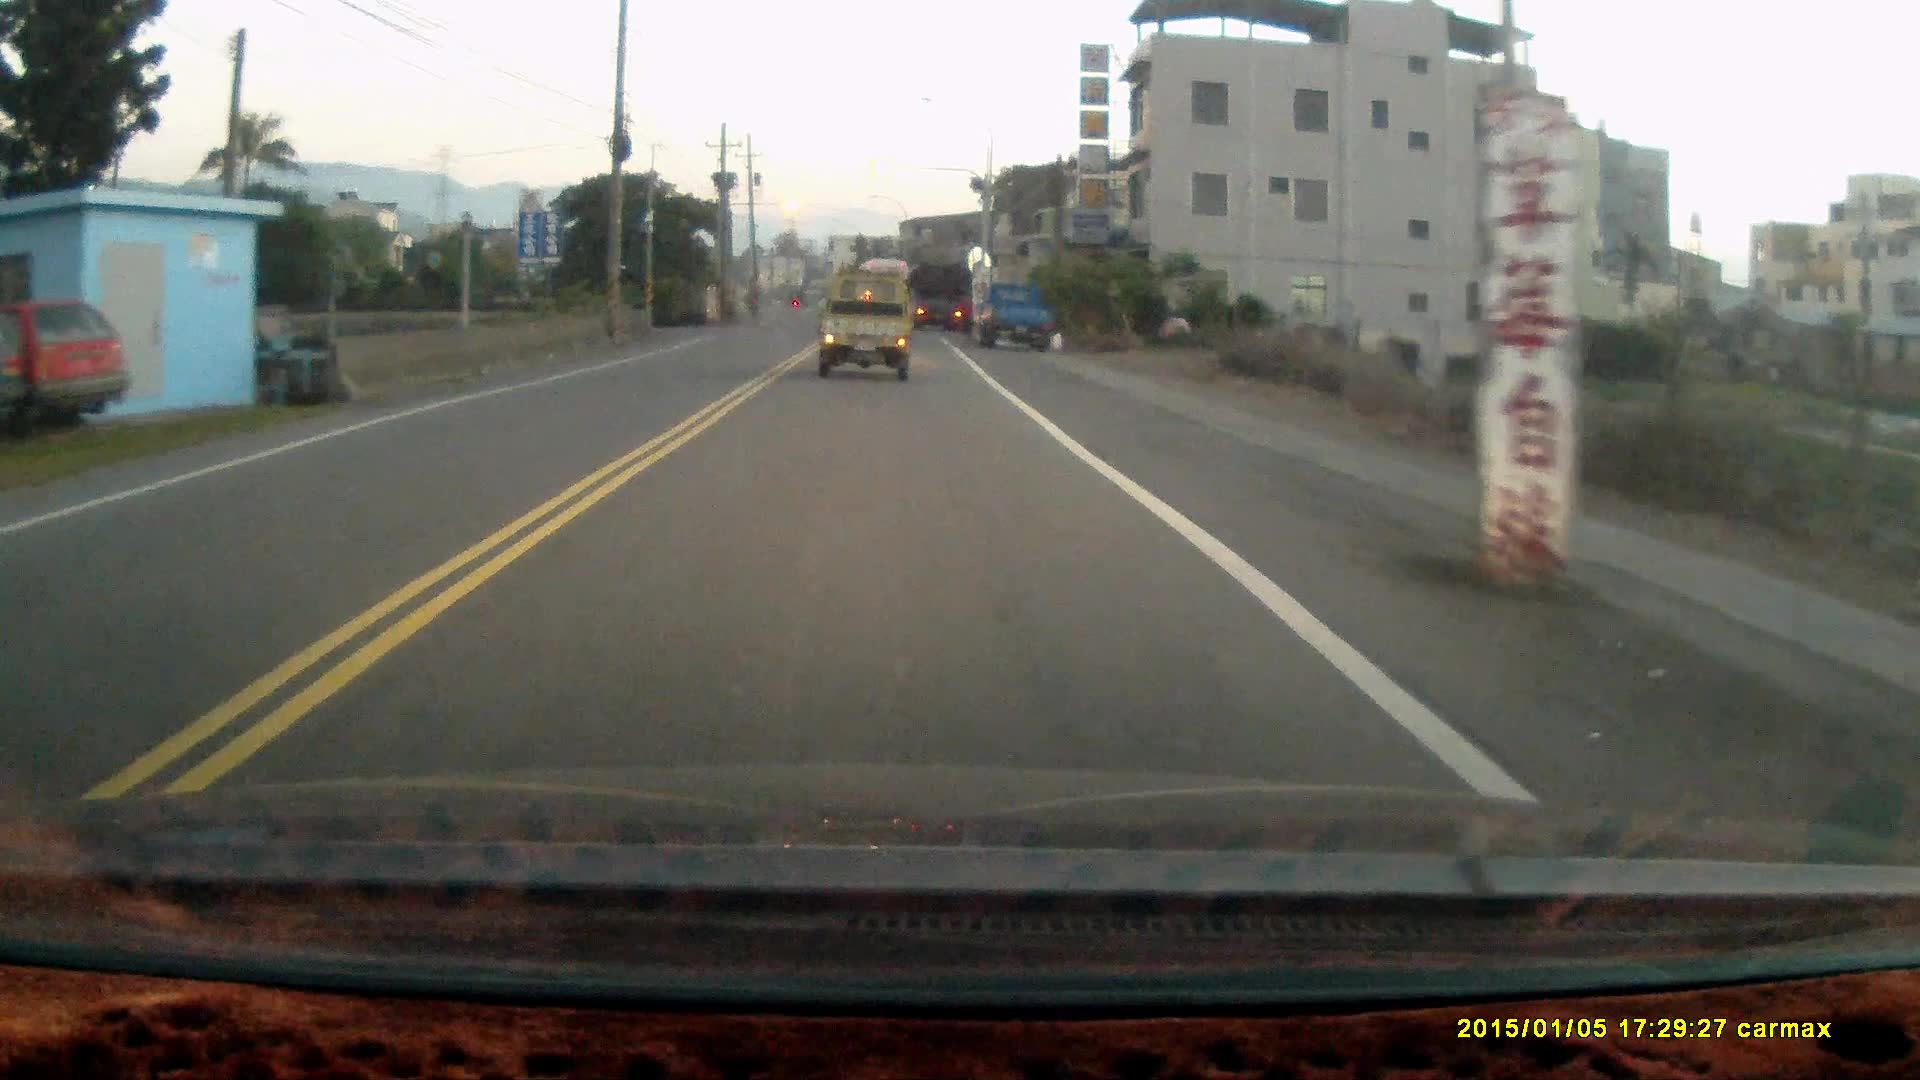vehicle: (3, 301, 128, 433), (815, 276, 916, 381), (972, 282, 1062, 357), (909, 262, 975, 331)
